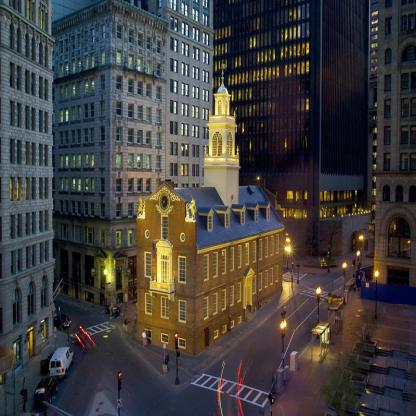State House: (116, 51, 299, 372)
